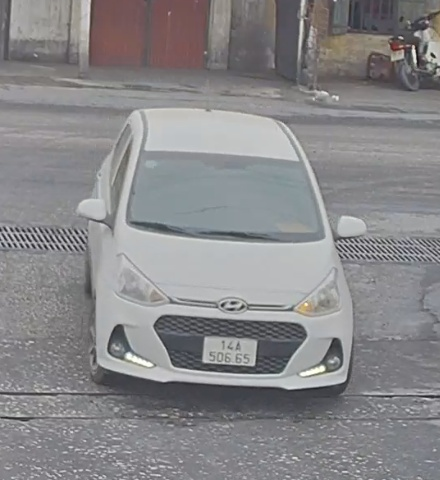vehicle plate: (200, 331, 261, 370)
